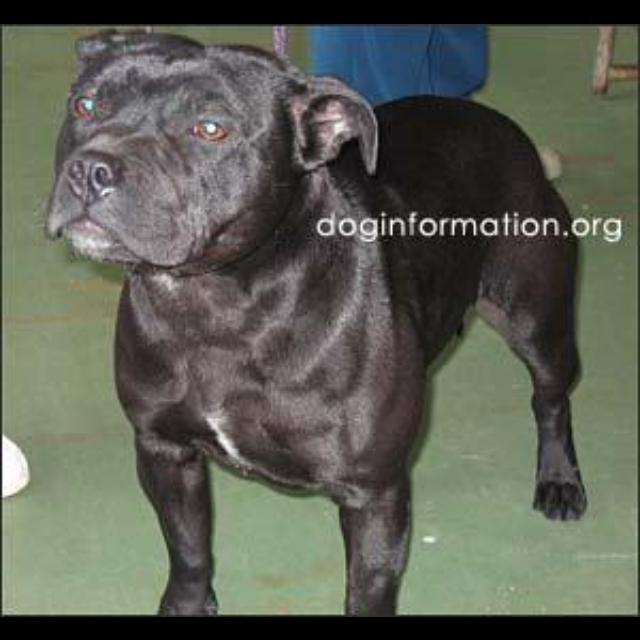staffford: (44, 27, 588, 615)
